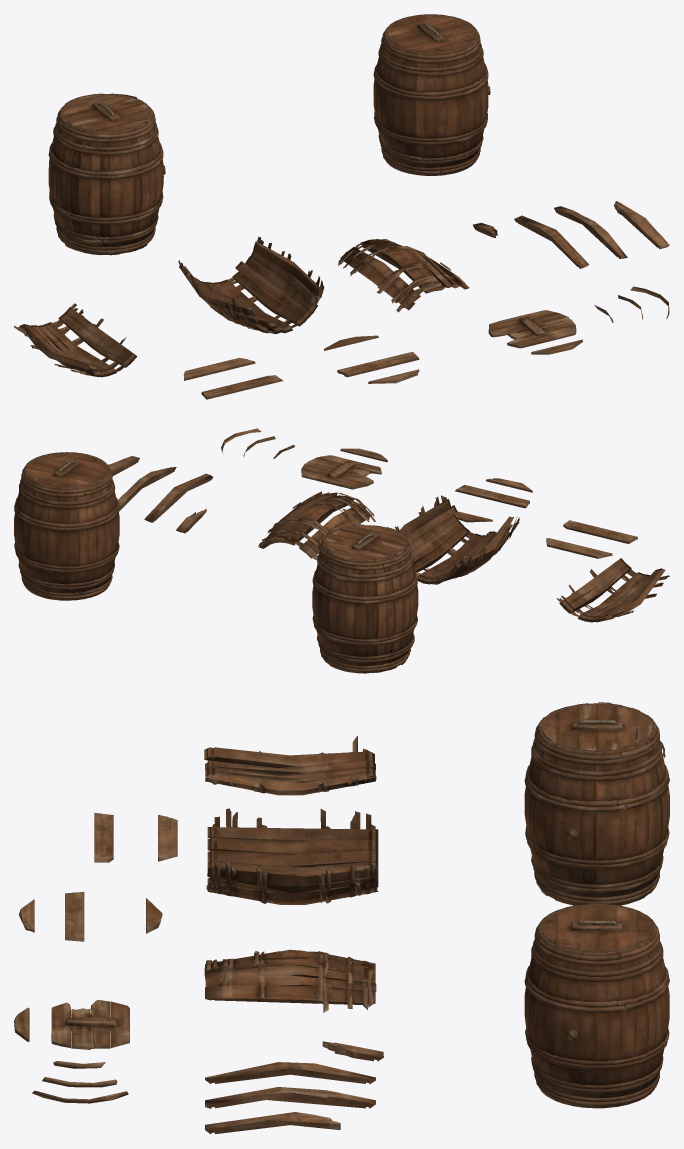
File: wooden_barrels_01.glb
3 views of the same model, one above another, from view 1: azimuth 30°, elevation 25°; view 2: azimuth 150°, elevation 25°; view 3: azimuth 270°, elevation 25° (orthographic). The views are drawn at different scales.
Visible parts, largest first — view 1: wooden_barrels_01_piece01, wooden_barrels_01_barrel01, wooden_barrels_01_barrel02; view 2: wooden_barrels_01_piece01, wooden_barrels_01_barrel02, wooden_barrels_01_barrel01; view 3: wooden_barrels_01_piece01, wooden_barrels_01_barrel01, wooden_barrels_01_barrel02.
Part boxes in pixels (x1,y1,x2,y2): wooden_barrels_01_piece01: (14,201,669,399); wooden_barrels_01_barrel01: (373,14,490,175); wooden_barrels_01_barrel02: (48,93,165,255); wooden_barrels_01_piece01: (108,428,669,622); wooden_barrels_01_barrel02: (312,524,418,673); wooden_barrels_01_barrel01: (14,452,119,600); wooden_barrels_01_piece01: (14,736,383,1134); wooden_barrels_01_barrel01: (524,903,669,1108); wooden_barrels_01_barrel02: (524,702,669,905).
Size of the model in its own units: 4.44 by 0.9541 by 3.34.
Materials: 3 (3 with a texture image).
